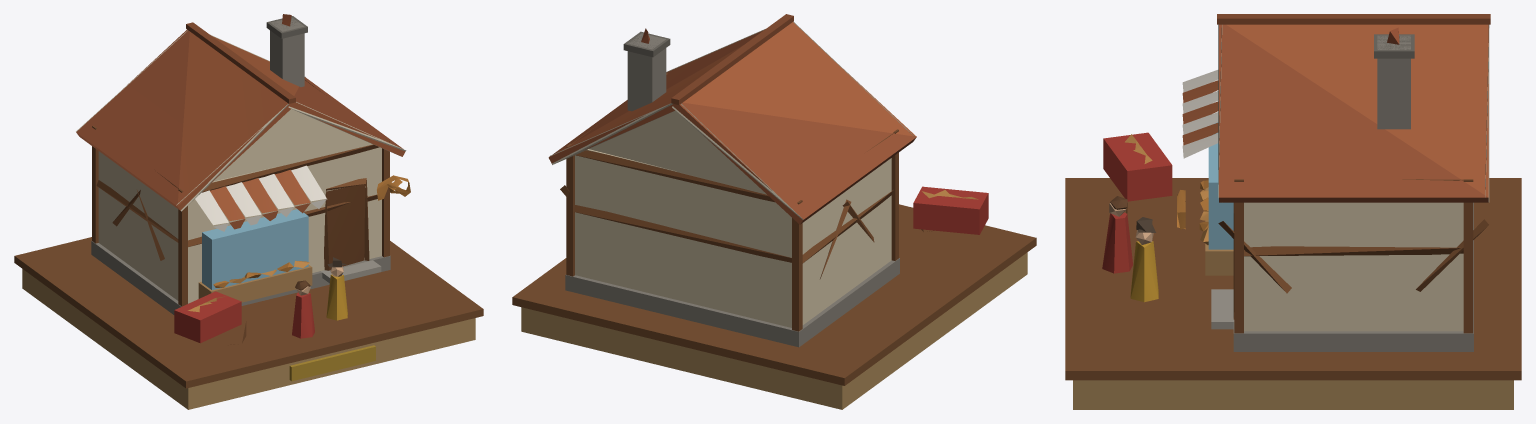
Rendered from village_bakery_souvenir.glb.
The picture shows the model from 3 angles, left to right: view 1: azimuth 30°, elevation 25°; view 2: azimuth 150°, elevation 25°; view 3: azimuth 270°, elevation 25°; orthographic projection. The views are drawn at different scales.
Parts seen in each view (by area): view 1: decor-village_bakery_souvenir; view 2: decor-village_bakery_souvenir; view 3: decor-village_bakery_souvenir.
Boxes of the visible parts, x1,y1,x2,y2 form: decor-village_bakery_souvenir: (14, 14, 483, 409); decor-village_bakery_souvenir: (512, 14, 1036, 409); decor-village_bakery_souvenir: (1065, 14, 1521, 409).
Bounding box in the file's own units: 1.76 × 1.43 × 1.76.
